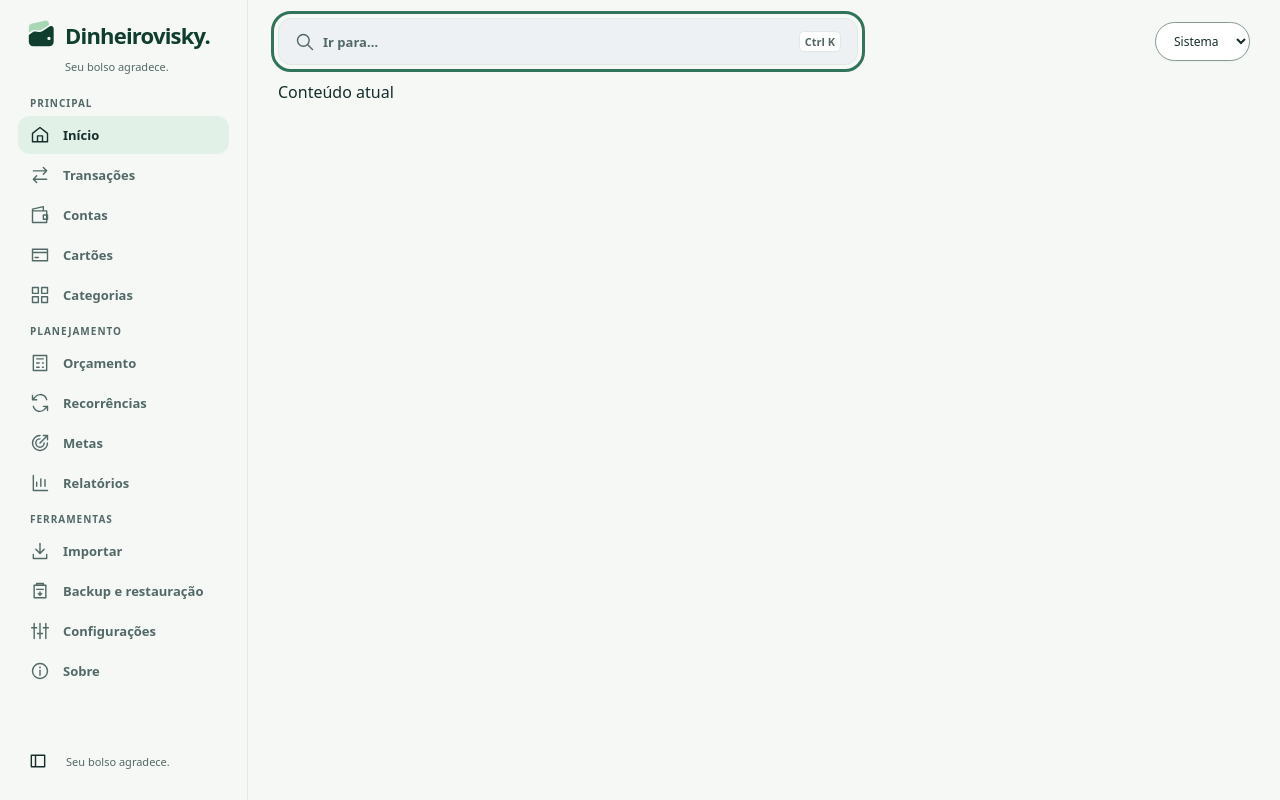
Test: informa ausência de resultado e restaura foco ao cancelar
The width and height of the screenshot is (1280, 800).
Click the button "Ir para… Ctrl K" at (351, 42), box 278,18 -> 858,65
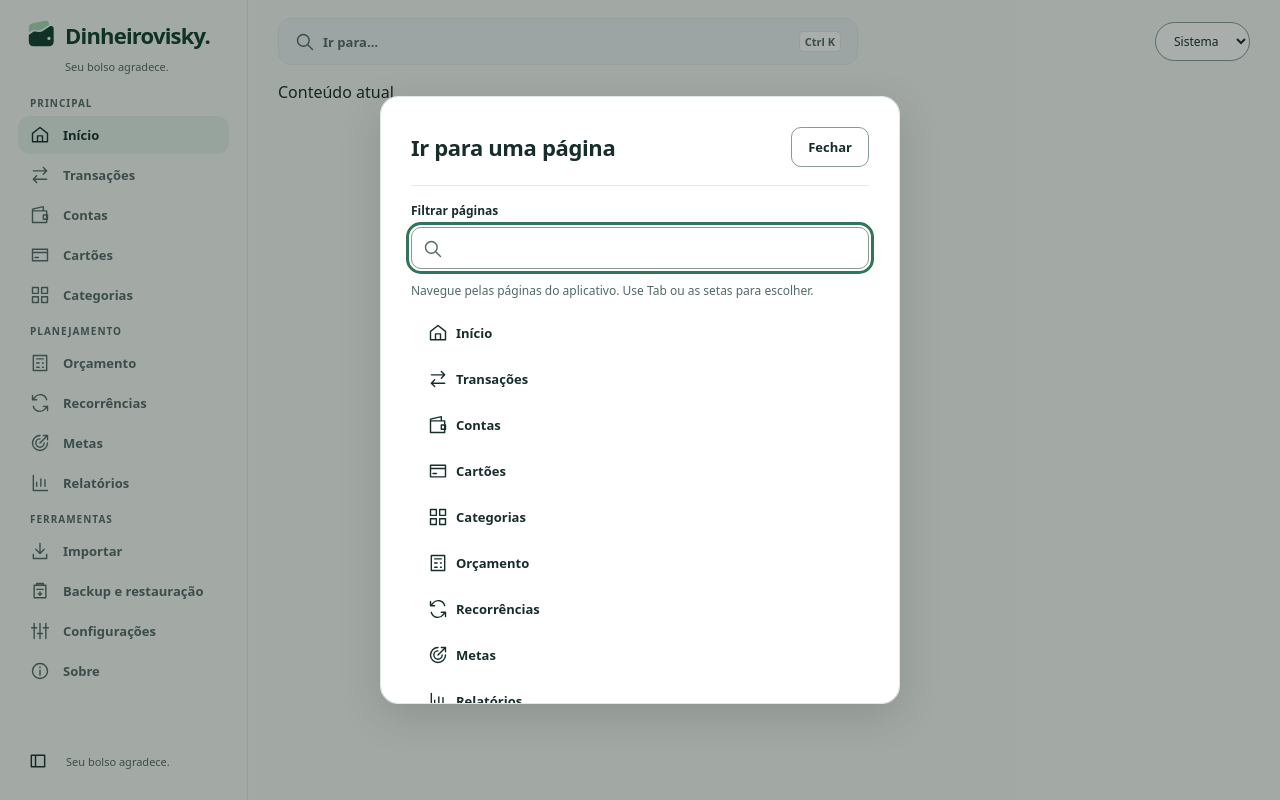
Type "cartão inexistente" into the search field at (640, 248), box 411,227 -> 869,269
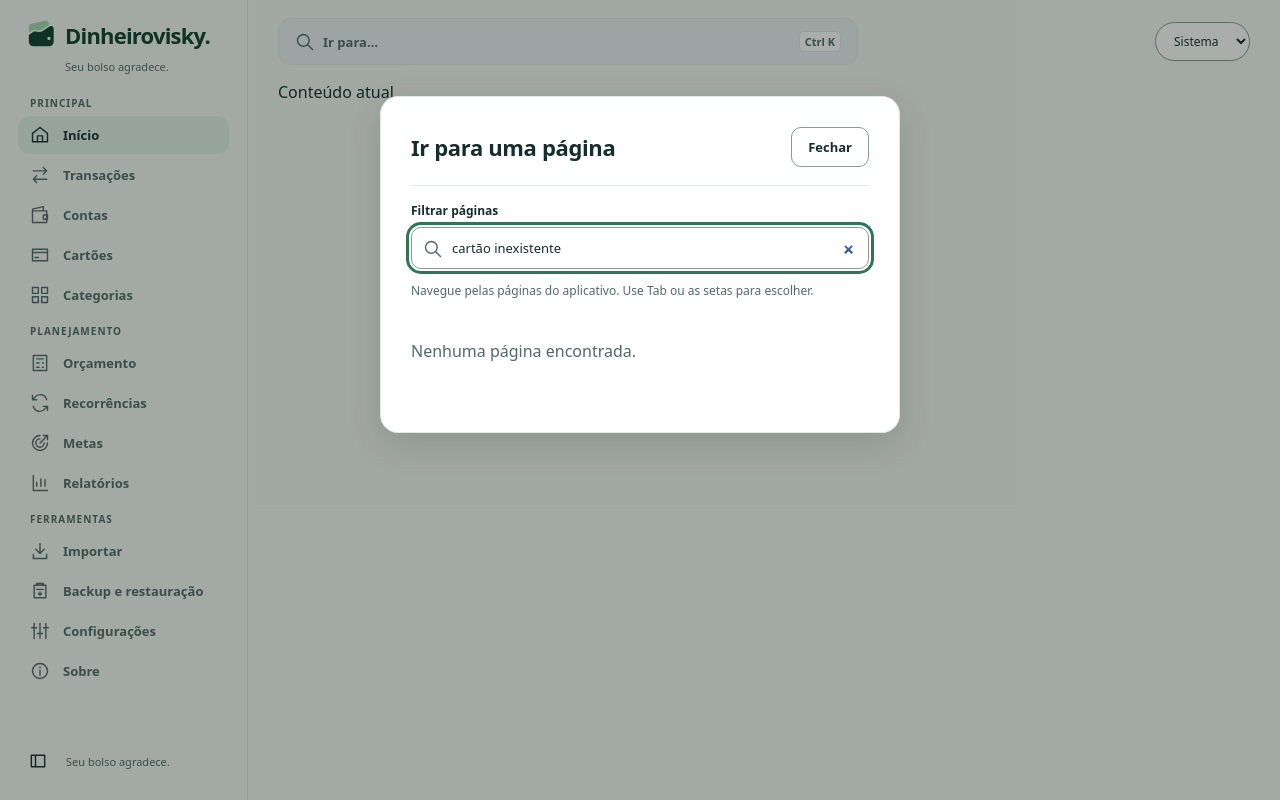
Check: the message reads "Nenhuma página encontrada.", box 411,340 -> 636,362
Press Escape in the search field, box 411,227 -> 869,269
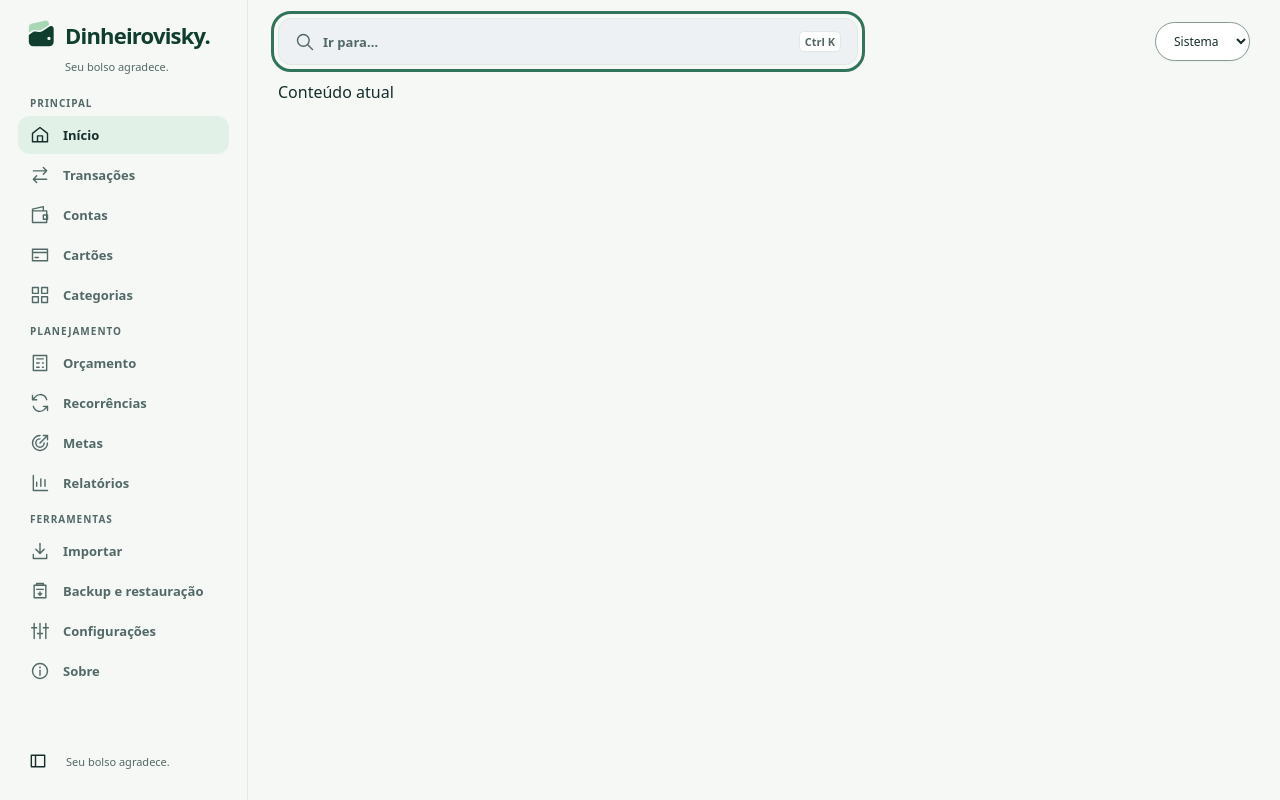
Check: the dialog is gone
